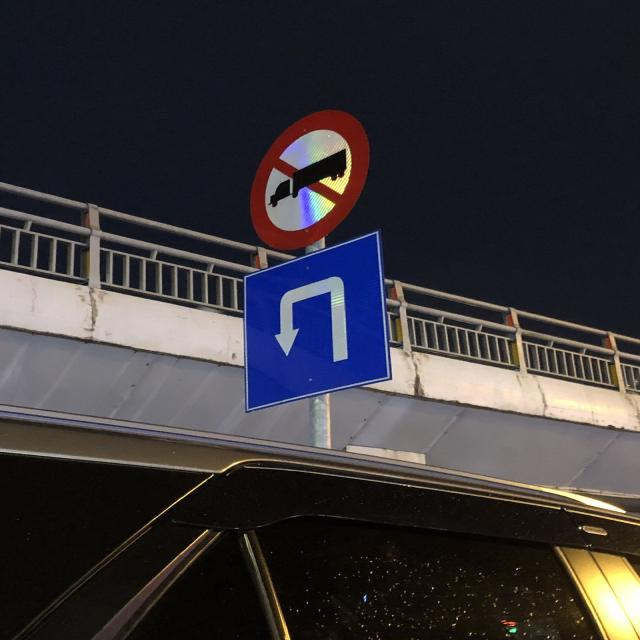Bien bao cam xe so-mi ro-mooc: (236, 99, 380, 249)
